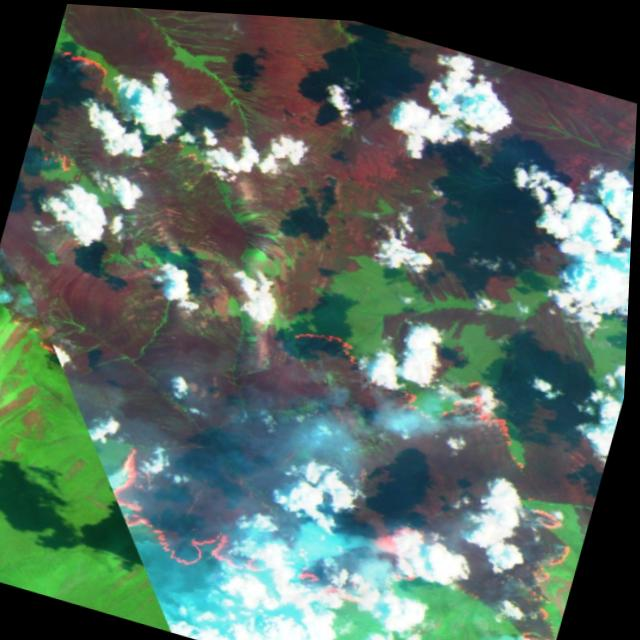fire: (86, 272, 626, 640), (45, 38, 126, 97), (34, 134, 91, 178)
